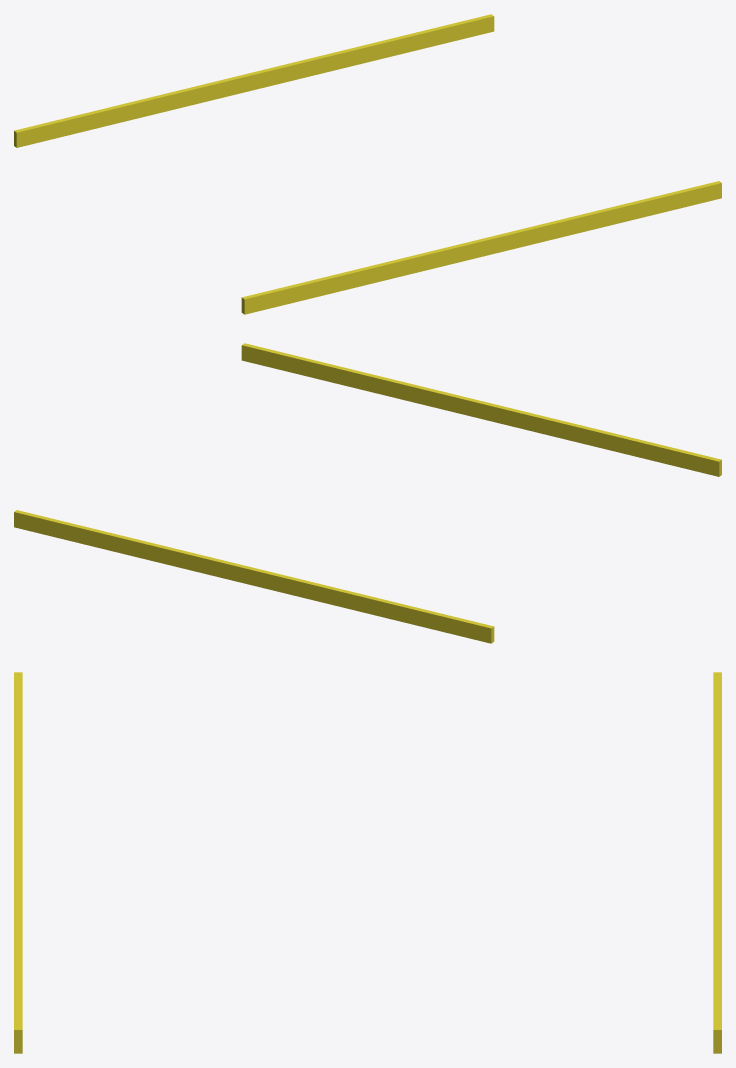
Rendered from fire_engine_cab_stripe.glb.
3 renders of one model, top to bottom at view 1: azimuth 30°, elevation 25°; view 2: azimuth 150°, elevation 25°; view 3: azimuth 270°, elevation 25°, orthographic. The views are drawn at different scales.
Parts seen in each view (by area): view 1: body:compound; view 2: body:compound; view 3: body:compound.
Boxes of the visible parts, box(x1,y1,x2,y2) form: body:compound: box(14, 14, 721, 314); body:compound: box(14, 343, 721, 643); body:compound: box(14, 672, 721, 1053).
Size of the model in its own units: 3.06 by 0.0938 by 2.56.
